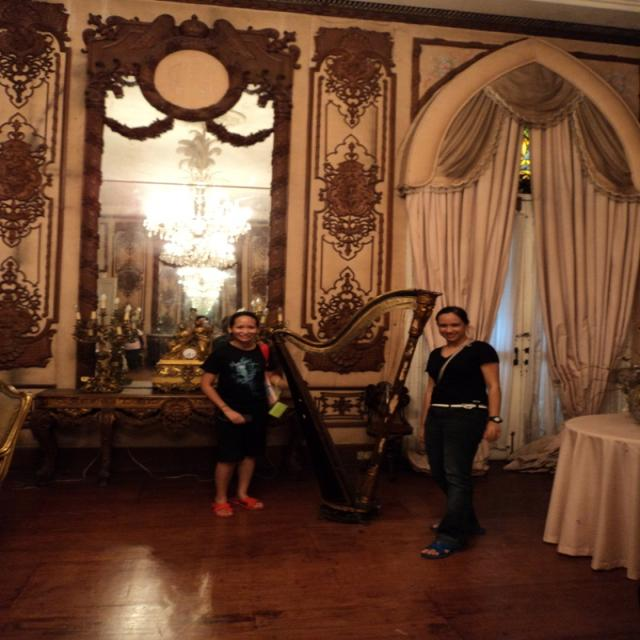harp: (255, 287, 443, 527)
